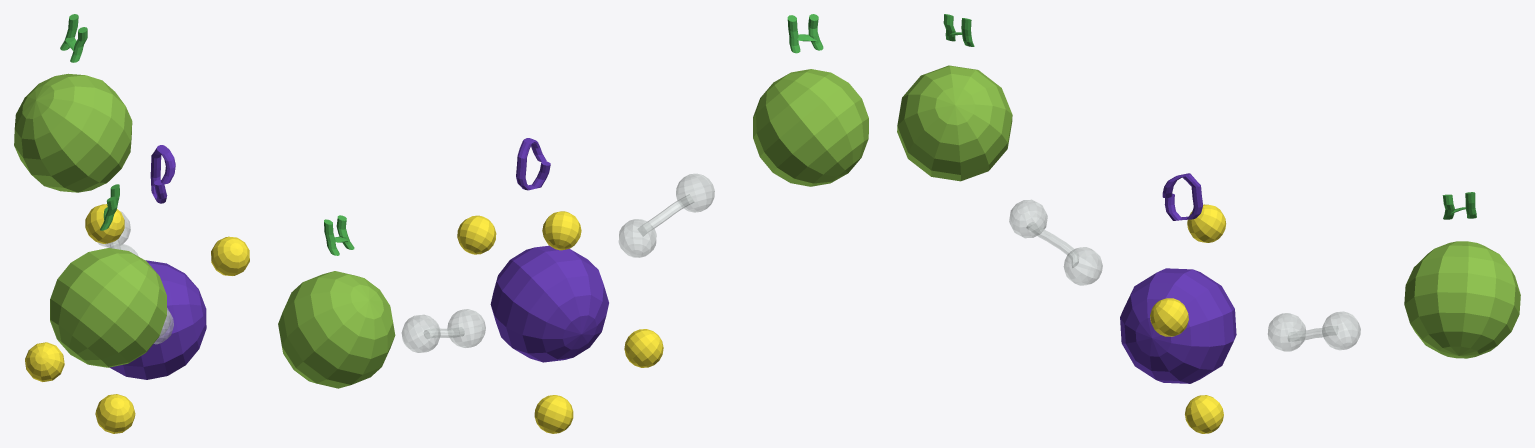
File: water.obj
The picture shows the model from 3 angles, left to right: view 1: azimuth 30°, elevation 25°; view 2: azimuth 150°, elevation 25°; view 3: azimuth 270°, elevation 25°; orthographic projection. The views are drawn at different scales.
Parts seen in each view (by area): view 1: mesh5253646, mesh1965138079, mesh779353922, mesh2062549812, mesh1118976156, mesh781715754, mesh1102331149, mesh785967610, mesh240129746, mesh156171797, mesh1999792348; view 2: mesh1965138079, mesh5253646, mesh779353922, mesh2062549812, mesh781715754, mesh1118976156, mesh1102331149, mesh1042532269, mesh1999792348, mesh785967610, mesh156171797, mesh240129746 (+1 smaller); view 3: mesh5253646, mesh1965138079, mesh779353922, mesh1118976156, mesh2062549812, mesh1999792348, mesh1042532269, mesh1102331149, mesh785967610, mesh1384123623, mesh240129746.
Boxes of the visible parts, bbox=[...] form: mesh5253646: bbox=[14, 73, 132, 247]; mesh1965138079: bbox=[50, 248, 171, 367]; mesh779353922: bbox=[109, 260, 206, 379]; mesh2062549812: bbox=[95, 394, 135, 433]; mesh1118976156: bbox=[211, 236, 249, 275]; mesh781715754: bbox=[25, 342, 64, 381]; mesh1102331149: bbox=[85, 204, 124, 243]; mesh785967610: bbox=[150, 145, 175, 203]; mesh240129746: bbox=[60, 14, 87, 62]; mesh156171797: bbox=[100, 184, 119, 230]; mesh1999792348: bbox=[153, 310, 173, 344]; mesh1965138079: bbox=[676, 69, 868, 212]; mesh5253646: bbox=[278, 271, 440, 388]; mesh779353922: bbox=[490, 245, 608, 362]; mesh2062549812: bbox=[534, 395, 573, 433]; mesh781715754: bbox=[624, 329, 663, 367]; mesh1118976156: bbox=[457, 215, 496, 254]; mesh1102331149: bbox=[542, 211, 581, 250]; mesh1042532269: bbox=[447, 309, 485, 347]; mesh1999792348: bbox=[618, 219, 656, 257]; mesh785967610: bbox=[516, 138, 550, 190]; mesh156171797: bbox=[787, 14, 823, 53]; mesh240129746: bbox=[324, 215, 354, 255]; mesh5253646: bbox=[1322, 241, 1520, 358]; mesh1965138079: bbox=[897, 65, 1047, 238]; mesh779353922: bbox=[1120, 268, 1236, 383]; mesh1118976156: bbox=[1150, 298, 1188, 336]; mesh2062549812: bbox=[1185, 395, 1223, 433]; mesh1999792348: bbox=[1063, 247, 1102, 285]; mesh1042532269: bbox=[1268, 313, 1305, 351]; mesh1102331149: bbox=[1187, 204, 1226, 242]; mesh785967610: bbox=[1162, 173, 1202, 220]; mesh1384123623: bbox=[1026, 222, 1078, 267]; mesh240129746: bbox=[1442, 192, 1476, 219].
Bounding box in the file's own units: 0.3778 × 0.4009 × 0.636.
